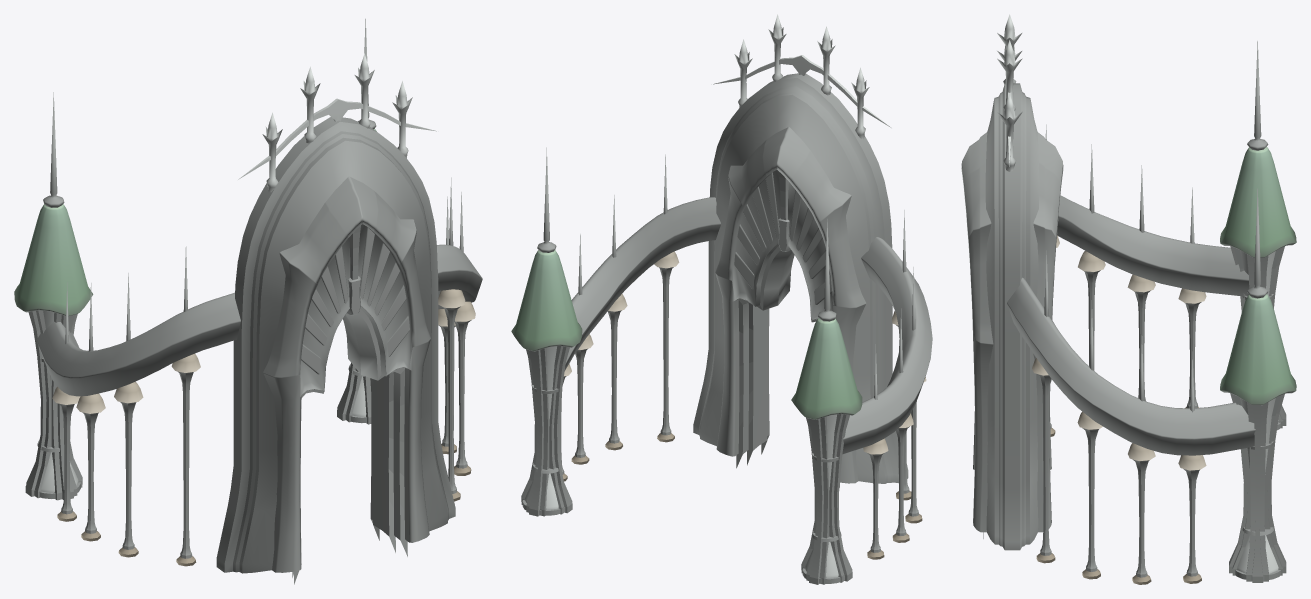
The picture shows the model from 3 angles, left to right: view 1: azimuth 30°, elevation 25°; view 2: azimuth 150°, elevation 25°; view 3: azimuth 270°, elevation 25°; orthographic projection. The views are drawn at different scales.
Visible parts, largest first — view 1: G:\FFXIV-MapTools\exports\n4f4\bg\ex3\01_nvt_n4\fld\n4f4\bgp (×5); view 2: G:\FFXIV-MapTools\exports\n4f4\bg\ex3\01_nvt_n4\fld\n4f4\bgp (×5); view 3: G:\FFXIV-MapTools\exports\n4f4\bg\ex3\01_nvt_n4\fld\n4f4\bgp (×5).
Boxes of the visible parts, <box> form: G:\FFXIV-MapTools\exports\n4f4\bg\ex3\01_nvt_n4\fld\n4f4\bgp (×5): <box>14,18,482,584</box>; G:\FFXIV-MapTools\exports\n4f4\bg\ex3\01_nvt_n4\fld\n4f4\bgp (×5): <box>511,14,932,584</box>; G:\FFXIV-MapTools\exports\n4f4\bg\ex3\01_nvt_n4\fld\n4f4\bgp (×5): <box>961,14,1296,584</box>.
Size of the model in its own units: 28.97 by 35.37 by 22.07.
